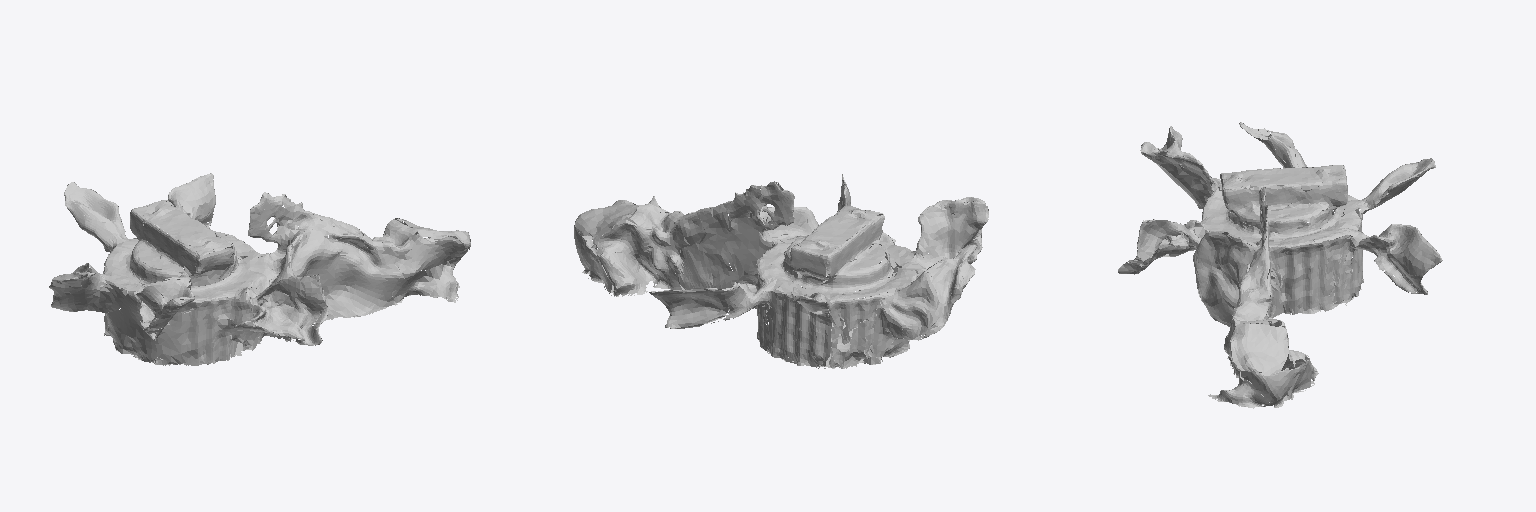
File: junk1.obj
3 views of the same model, side by side, from view 1: azimuth 30°, elevation 25°; view 2: azimuth 150°, elevation 25°; view 3: azimuth 270°, elevation 25° (orthographic).
Visible parts, largest first — view 1: Retopo_mesh; view 2: Retopo_mesh; view 3: Retopo_mesh.
Boxes of the visible parts, <box> form: Retopo_mesh: <box>49,173,470,365</box>; Retopo_mesh: <box>574,174,988,368</box>; Retopo_mesh: <box>1118,122,1442,408</box>.
Bounding box in the file's own units: 0.3078 × 0.1008 × 0.2148.